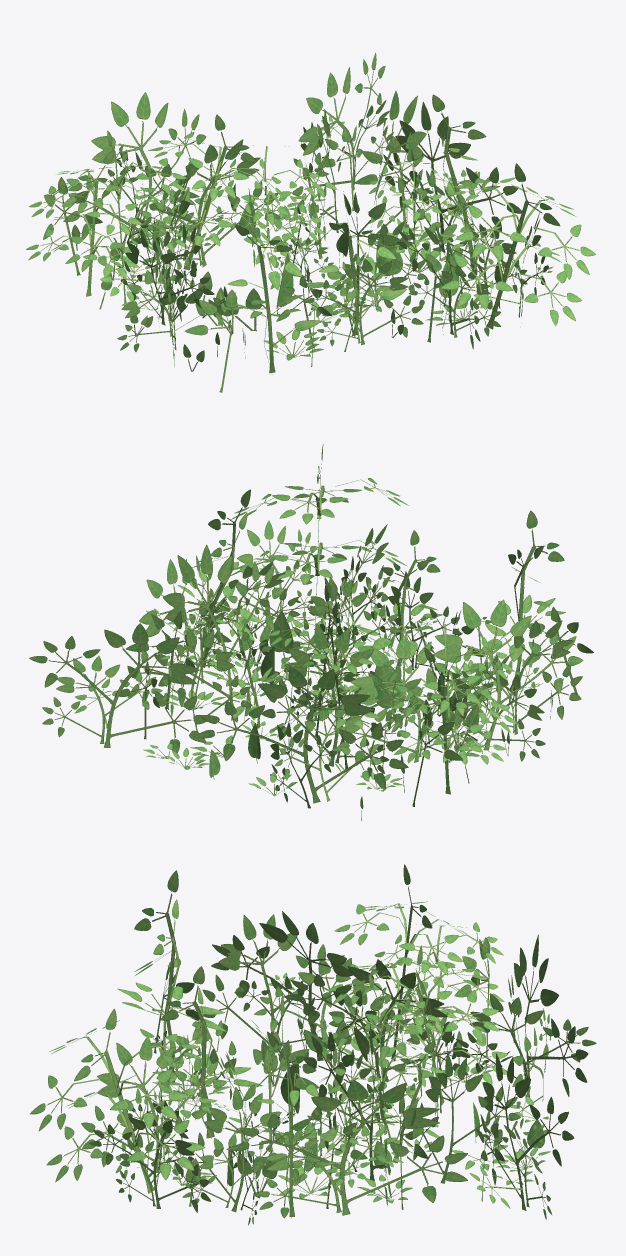
Rendered from LeafSetC_16.fbx.
3 views of the same model, one above another, from view 1: azimuth 30°, elevation 25°; view 2: azimuth 150°, elevation 25°; view 3: azimuth 270°, elevation 25° (orthographic). The views are drawn at different scales.
Visible parts, largest first — view 1: LeafSetC_16; view 2: LeafSetC_16; view 3: LeafSetC_16.
Part boxes in pixels (x1=…): LeafSetC_16: x1=26, y1=53, x2=595, y2=392; LeafSetC_16: x1=29, y1=444, x2=593, y2=820; LeafSetC_16: x1=30, y1=864, x2=596, y2=1225.
Bounding box in the file's own units: 2.66 × 1.29 × 2.95.
